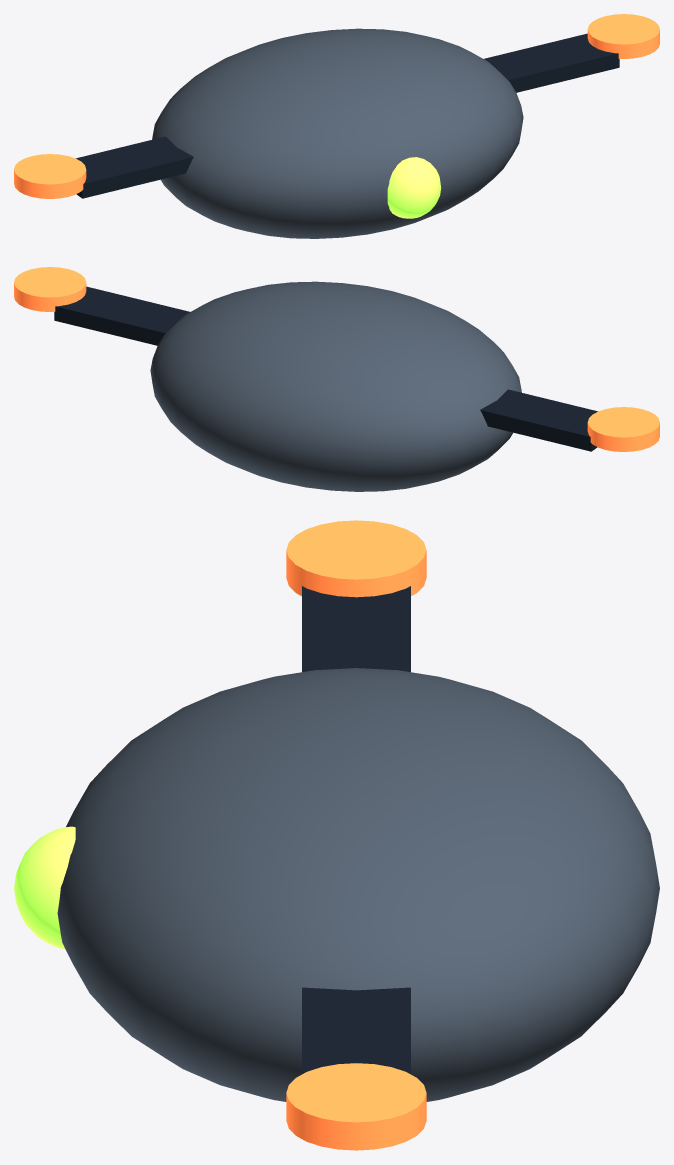
Rendered from scout-drone.glb.
3 renders of one model, top to bottom at view 1: azimuth 30°, elevation 25°; view 2: azimuth 150°, elevation 25°; view 3: azimuth 270°, elevation 25°, orthographic. The views are drawn at different scales.
Bounding box in the file's own units: 3.66 × 0.858 × 1.66.
